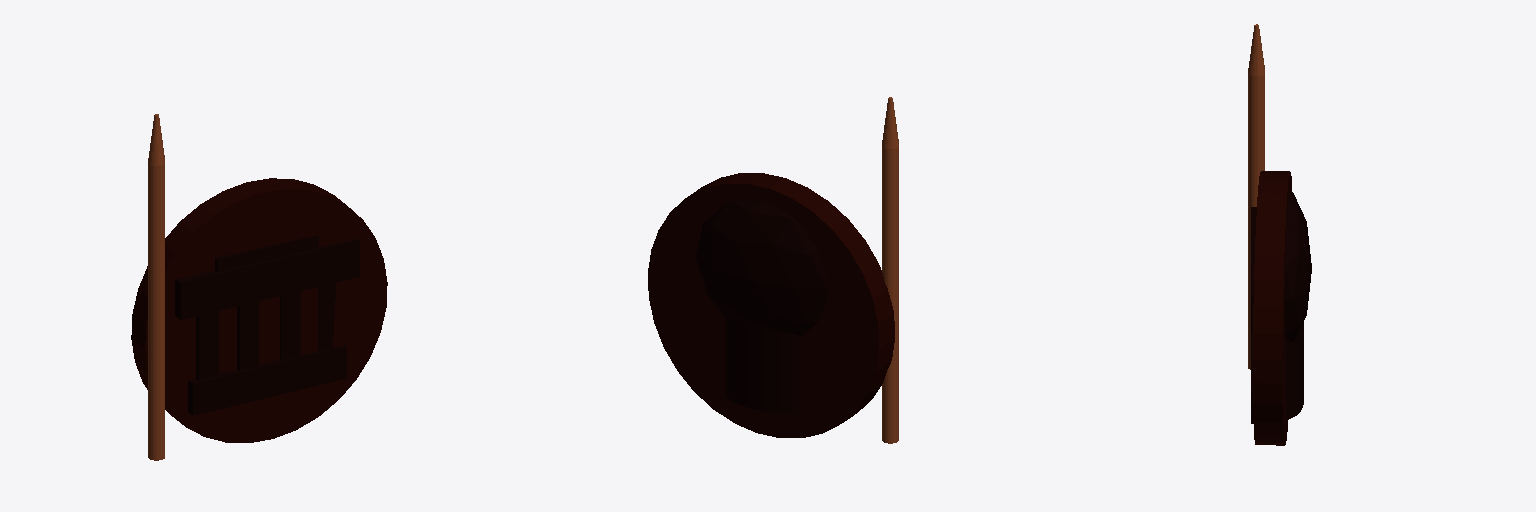
Rendered from Penny.obj.
3 views of the same model, side by side, from view 1: azimuth 30°, elevation 25°; view 2: azimuth 150°, elevation 25°; view 3: azimuth 270°, elevation 25° (orthographic).
Parts seen in each view (by area): view 1: Cylinder, Cube.005, Cylinder.002, Cube, Cube.001, Cube.006, Cube.002, Cube.003, Cube.004; view 2: Cylinder, Icosphere, Cylinder.001, Cylinder.002; view 3: Cylinder, Cylinder.002, Icosphere, Cylinder.001.
Part boxes in pixels (bbox=[...]): Cylinder: bbox=[131, 178, 387, 442]; Cube.005: bbox=[175, 239, 359, 319]; Cylinder.002: bbox=[148, 114, 164, 460]; Cube: bbox=[188, 345, 346, 415]; Cube.001: bbox=[196, 311, 218, 380]; Cube.006: bbox=[215, 235, 318, 271]; Cube.002: bbox=[237, 302, 258, 370]; Cube.003: bbox=[280, 291, 300, 360]; Cube.004: bbox=[318, 282, 336, 351]; Cylinder: bbox=[648, 173, 894, 437]; Icosphere: bbox=[696, 201, 827, 335]; Cylinder.001: bbox=[726, 320, 799, 413]; Cylinder.002: bbox=[882, 97, 898, 443]; Cylinder: bbox=[1253, 171, 1292, 445]; Cylinder.002: bbox=[1248, 24, 1264, 369]; Icosphere: bbox=[1285, 193, 1311, 341]; Cylinder.001: bbox=[1286, 323, 1303, 419].
Size of the model in its own units: 0.4426 by 0.6268 by 0.1032.